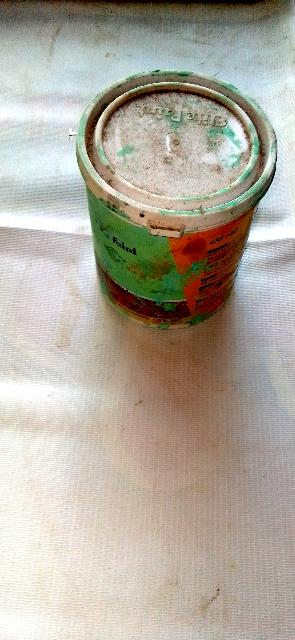hardplastic: (44, 41, 295, 374)
